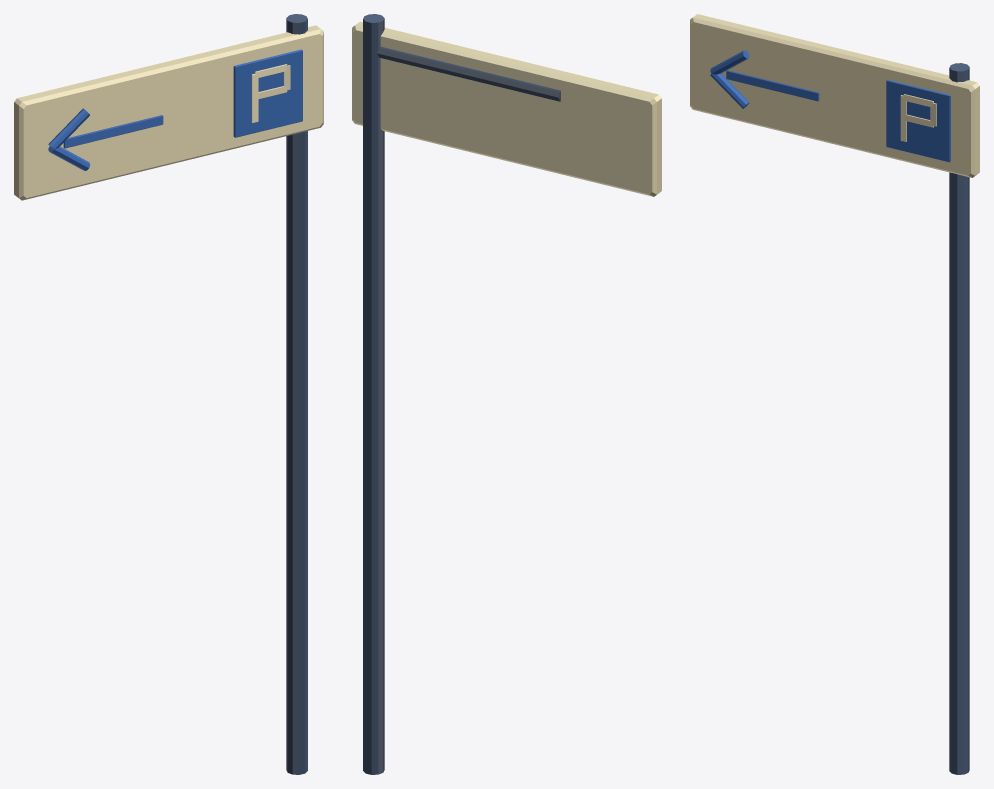
The model's file is HK_Sign_ParkingDirection.lod.glb.
3 views of the same model, side by side, from view 1: azimuth 30°, elevation 25°; view 2: azimuth 150°, elevation 25°; view 3: azimuth 330°, elevation 25° (orthographic). The views are drawn at different scales.
Visible parts, largest first — view 1: HK_Sign_ParkingDirection; view 2: HK_Sign_ParkingDirection; view 3: HK_Sign_ParkingDirection.
Boxes of the visible parts, left/top/right/bottom form: HK_Sign_ParkingDirection: left=14, top=14, right=323, bottom=774; HK_Sign_ParkingDirection: left=352, top=14, right=661, bottom=774; HK_Sign_ParkingDirection: left=690, top=14, right=979, bottom=774.
Bounding box in the file's own units: 2.1 × 4.95 × 0.1968.
